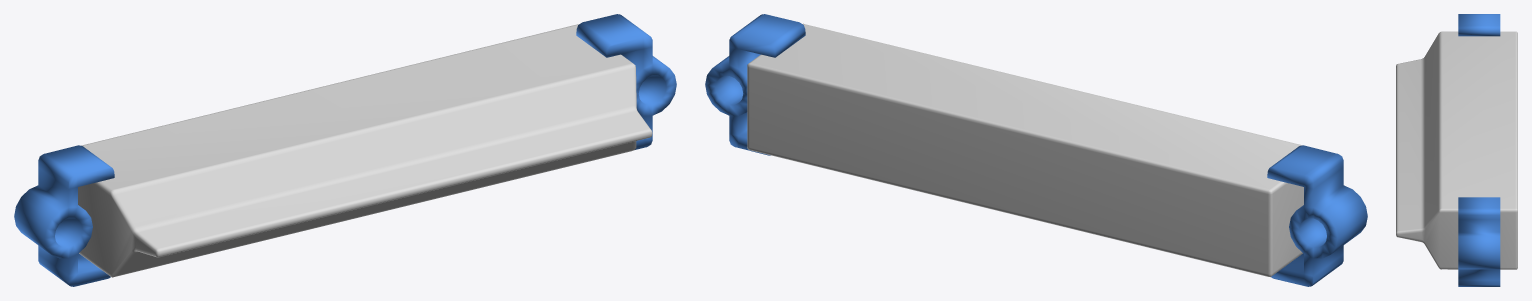
The model's file is guillotine2.fbx.
The picture shows the model from 3 angles, left to right: view 1: azimuth 30°, elevation 25°; view 2: azimuth 150°, elevation 25°; view 3: azimuth 270°, elevation 25°; orthographic projection. The views are drawn at different scales.
Visible parts, largest first — view 1: Cylinder.021; view 2: Cylinder.021; view 3: Cylinder.021.
Boxes of the visible parts, box(x1,y1,x2,y2) form: Cylinder.021: box(14, 14, 676, 286); Cylinder.021: box(705, 14, 1367, 286); Cylinder.021: box(1396, 14, 1517, 286).
Bounding box in the file's own units: 5.89 × 0.9903 × 1.41.
